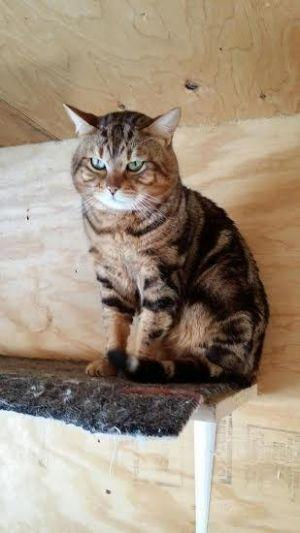bengal: (60, 95, 184, 228)
